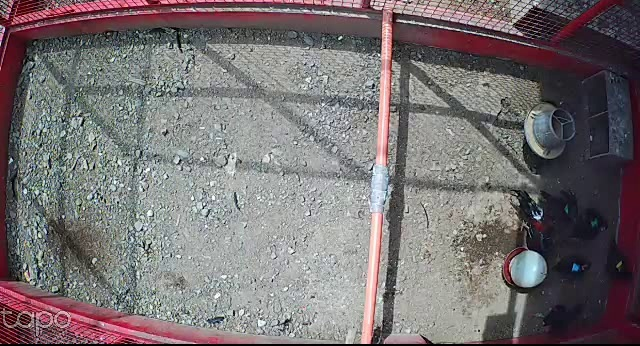Chicken: (535, 301, 589, 331), (603, 239, 634, 283), (551, 257, 591, 283)
Drinker: (501, 248, 549, 292)
Feeder: (520, 102, 579, 163)
Rooster: (508, 185, 558, 262)
Saddle_Color_Blue: (572, 265, 580, 271)
